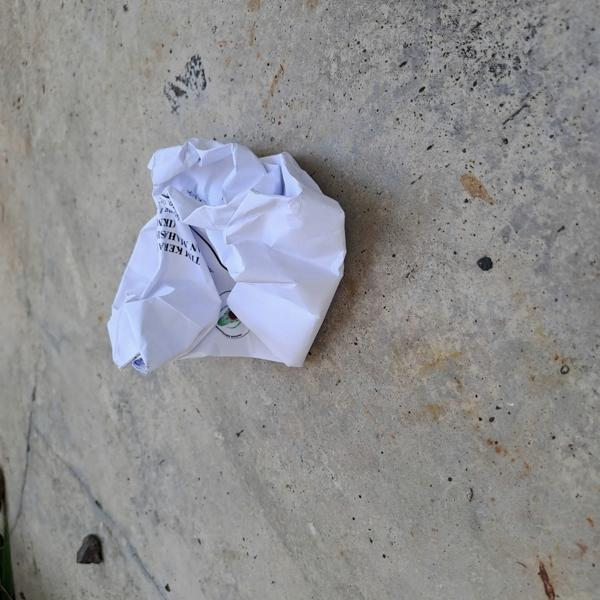Organik: (94, 130, 353, 381)
